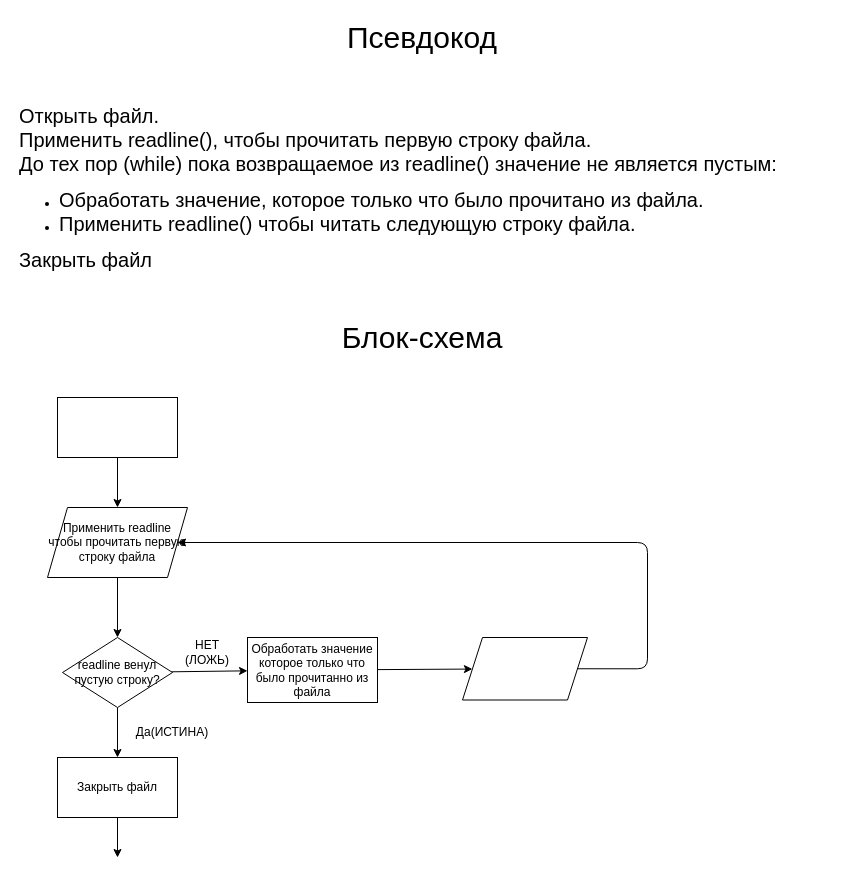
The diagram is 844 pixels wide and 883 high, and some of its shapes have lost their labels. Each missing label, with the box of its shape:
Открыть файл: (56, 396, 178, 458)
Применить readline для чтения следующей строки из файла: (462, 636, 588, 700)
